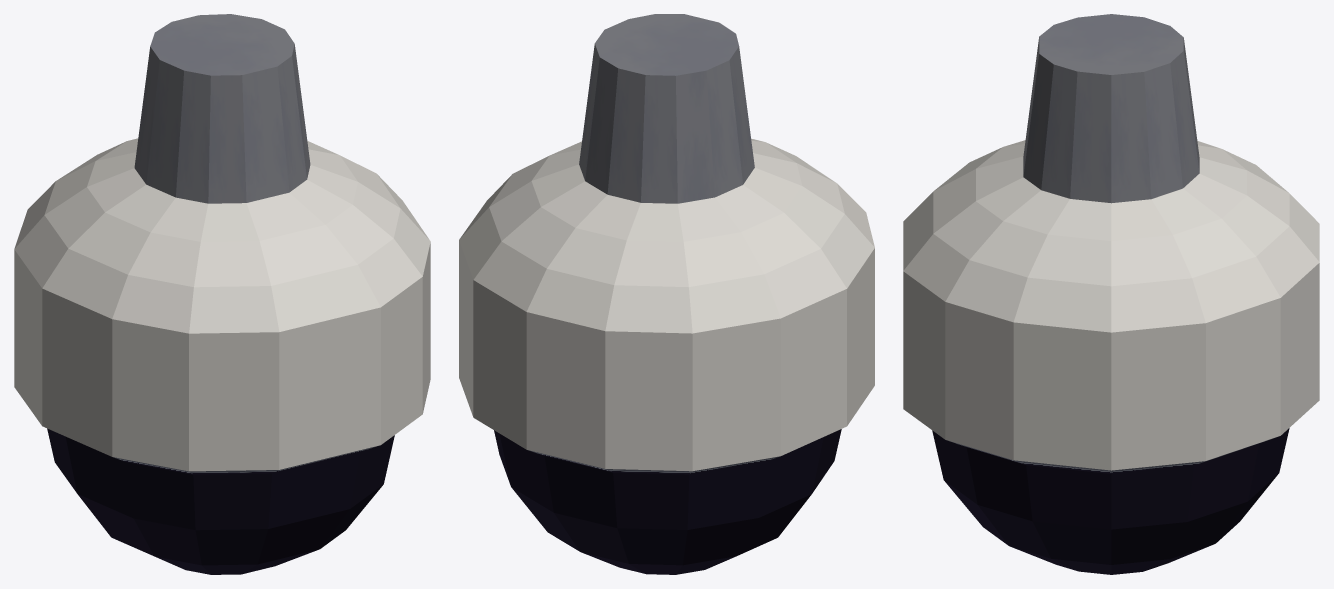
The model's file is Kammera 1.fbx.
3 views of the same model, side by side, from view 1: azimuth 30°, elevation 25°; view 2: azimuth 150°, elevation 25°; view 3: azimuth 270°, elevation 25° (orthographic).
Visible parts, largest first — view 1: Sphere; view 2: Sphere; view 3: Sphere.
Boxes of the visible parts, bbox=[...] form: Sphere: bbox=[14, 14, 430, 574]; Sphere: bbox=[459, 14, 874, 574]; Sphere: bbox=[903, 14, 1319, 574].
Size of the model in its own units: 30 by 40 by 30.
